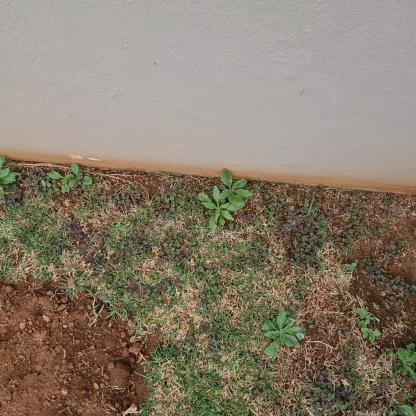Weeds: (262, 309, 306, 359), (197, 184, 243, 230), (220, 166, 253, 210), (0, 152, 20, 203), (395, 341, 415, 386), (46, 167, 77, 194), (70, 163, 95, 189), (357, 308, 380, 330), (361, 327, 381, 345), (391, 402, 414, 415), (345, 261, 357, 273)
